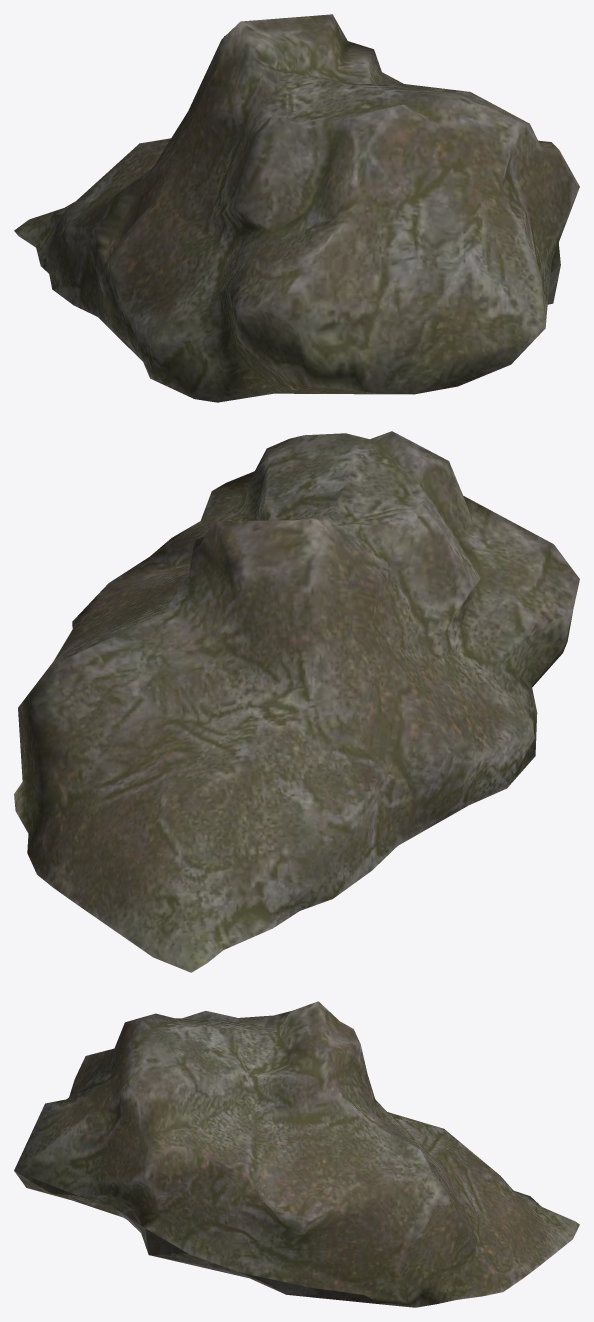
The model's file is Rock_02.glb.
The picture shows the model from 3 angles, top to bottom: view 1: azimuth 30°, elevation 25°; view 2: azimuth 150°, elevation 25°; view 3: azimuth 270°, elevation 25°; orthographic projection. The views are drawn at different scales.
Parts seen in each view (by area): view 1: SM_Rock_02; view 2: SM_Rock_02; view 3: SM_Rock_02.
Boxes of the visible parts, x1,y1,x2,y2 form: SM_Rock_02: [14, 14, 579, 402]; SM_Rock_02: [14, 431, 579, 972]; SM_Rock_02: [14, 1001, 579, 1307].
Size of the model in its own units: 1.17 by 0.8779 by 1.86.
Materials: 1 (1 with a texture image).
